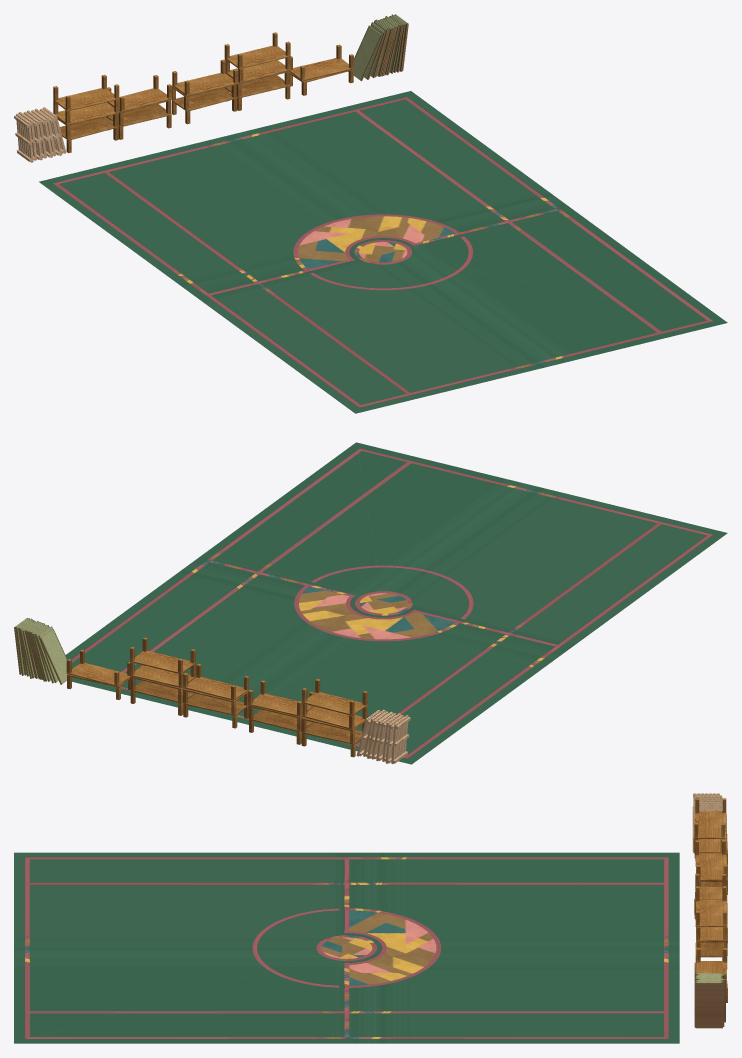
File: a_t06_g10_battle.gltf
The picture shows the model from 3 angles, top to bottom: view 1: azimuth 30°, elevation 25°; view 2: azimuth 150°, elevation 25°; view 3: azimuth 270°, elevation 25°; orthographic projection. The views are drawn at different scales.
Visible parts, largest first — view 1: um_a_t06_g10_battle_model_a_t06_g10_battle_modelShape:a_t06_ (×5); view 2: um_a_t06_g10_battle_model_a_t06_g10_battle_modelShape:a_t06_ (×5); view 3: um_a_t06_g10_battle_model_a_t06_g10_battle_modelShape:a_t06_ (×5).
Part boxes in pixels (bbox=[...]): um_a_t06_g10_battle_model_a_t06_g10_battle_modelShape:a_t06_ (×5): bbox=[14, 14, 727, 413]; um_a_t06_g10_battle_model_a_t06_g10_battle_modelShape:a_t06_ (×5): bbox=[14, 442, 727, 764]; um_a_t06_g10_battle_model_a_t06_g10_battle_modelShape:a_t06_ (×5): bbox=[14, 793, 727, 1043].
Size of the model in its own units: 18.09 by 3.14 by 27.78.
5 materials, 5 textured.
